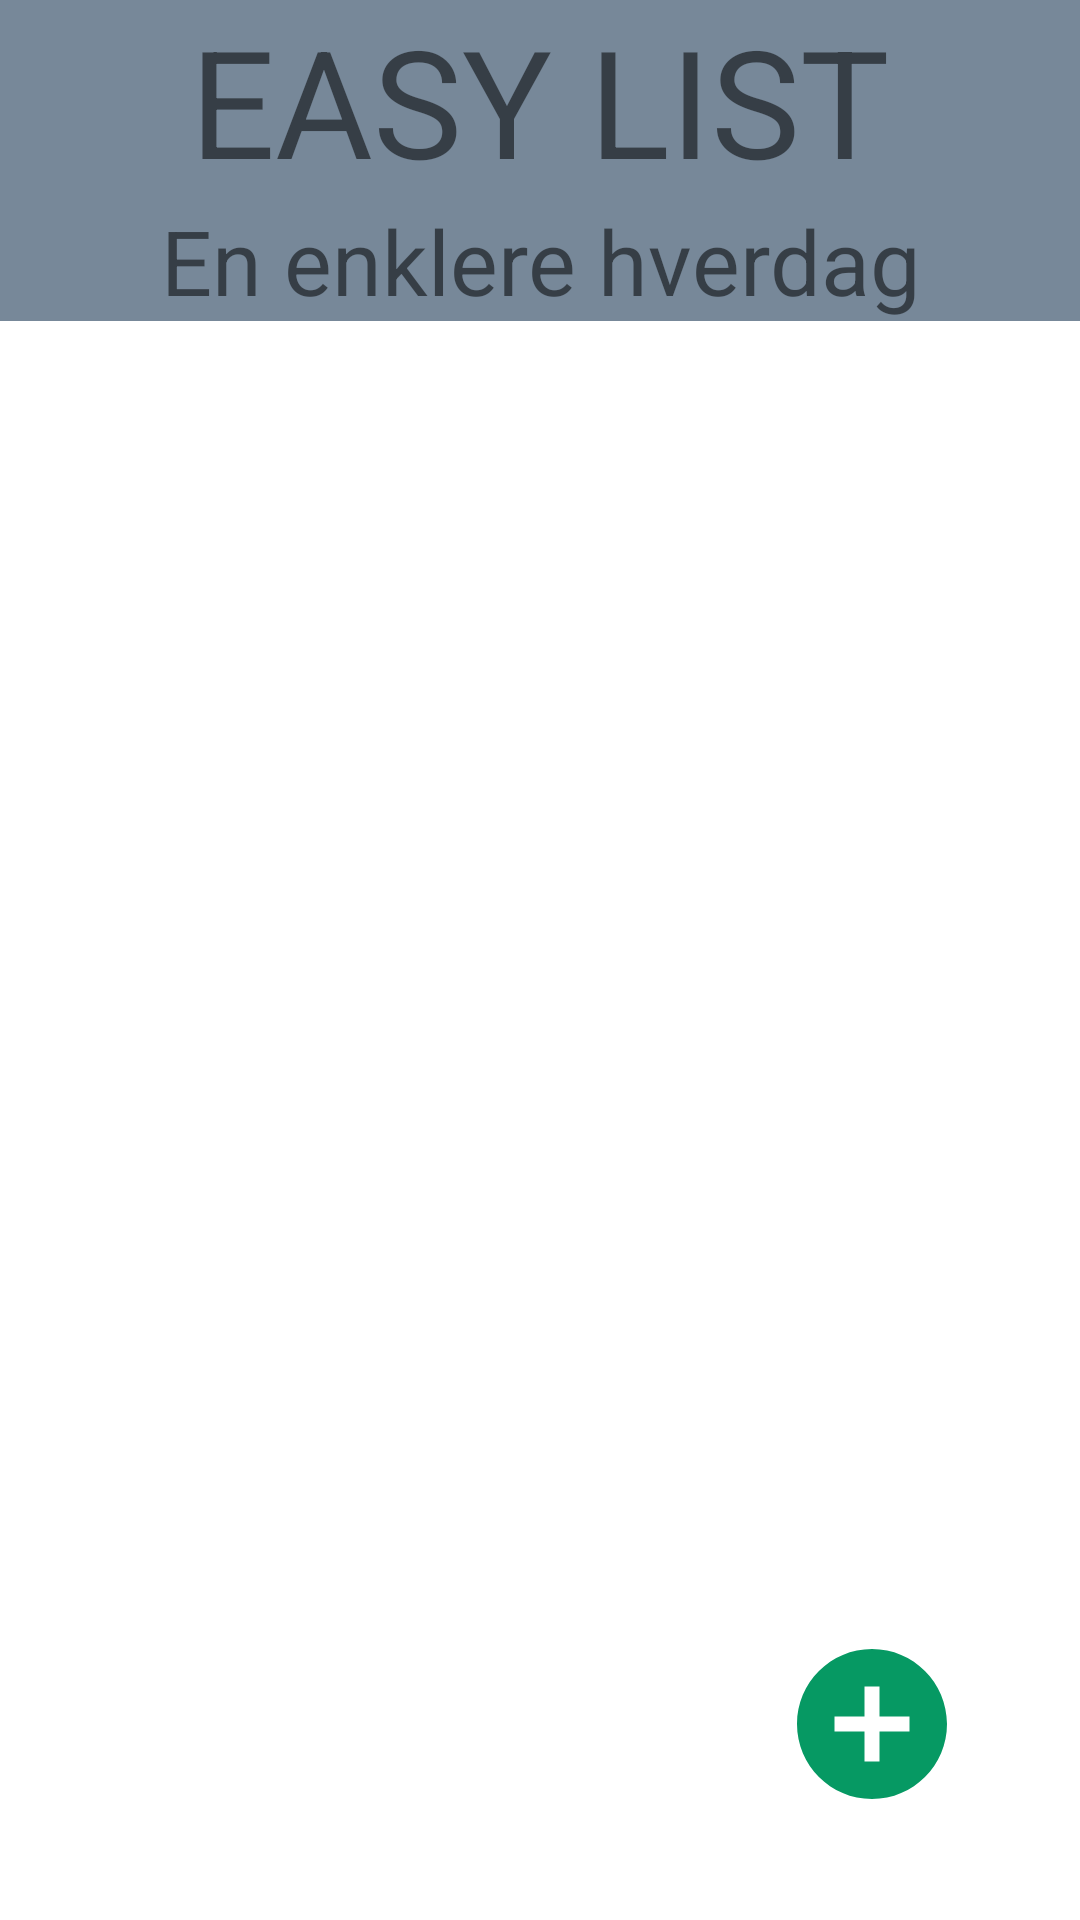

Screen size 1080px×1920px. Icon name, then its box in pixels as (x1, y1, x2, y2):
add circle: (797, 1649, 947, 1799)
